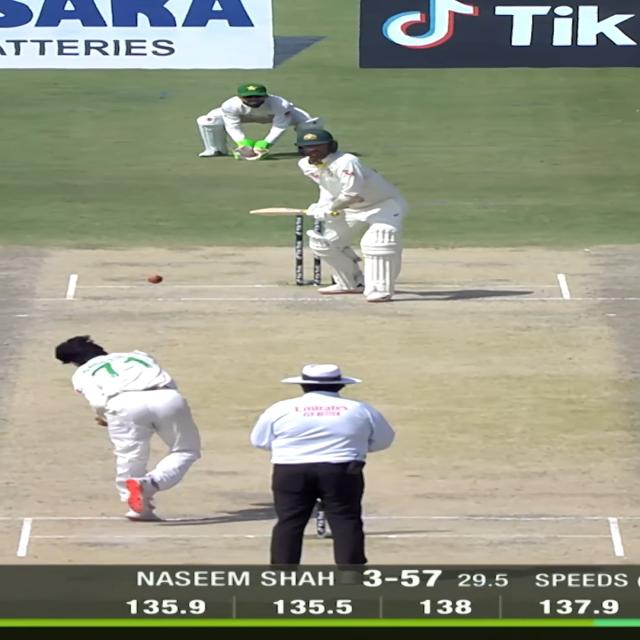Cricket ball: (147, 274, 164, 284)
